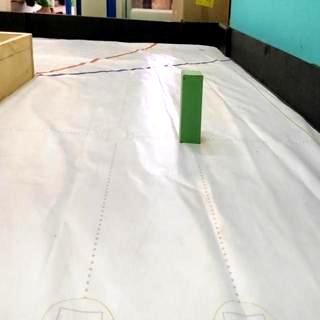greenbox: (180, 67, 203, 143)
